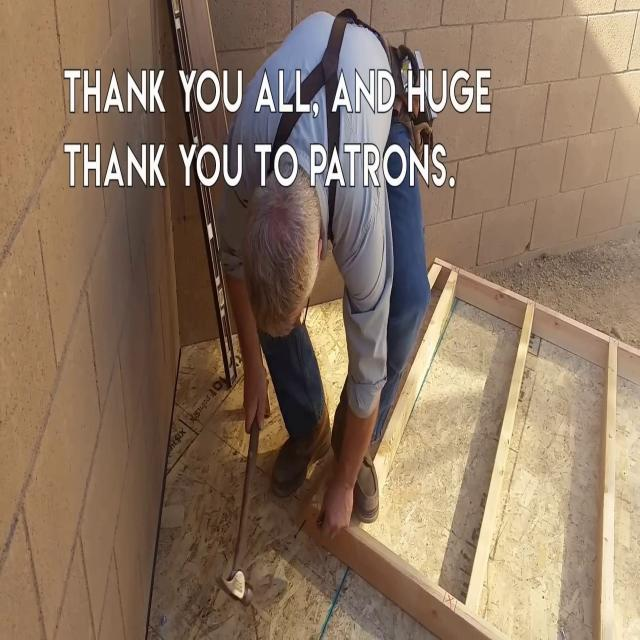hammer: (216, 411, 260, 607)
